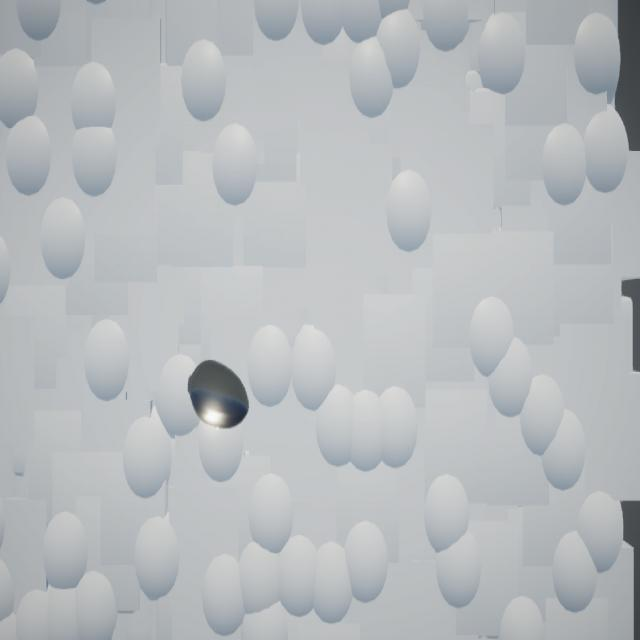top_spoon: (188, 361, 250, 430)
